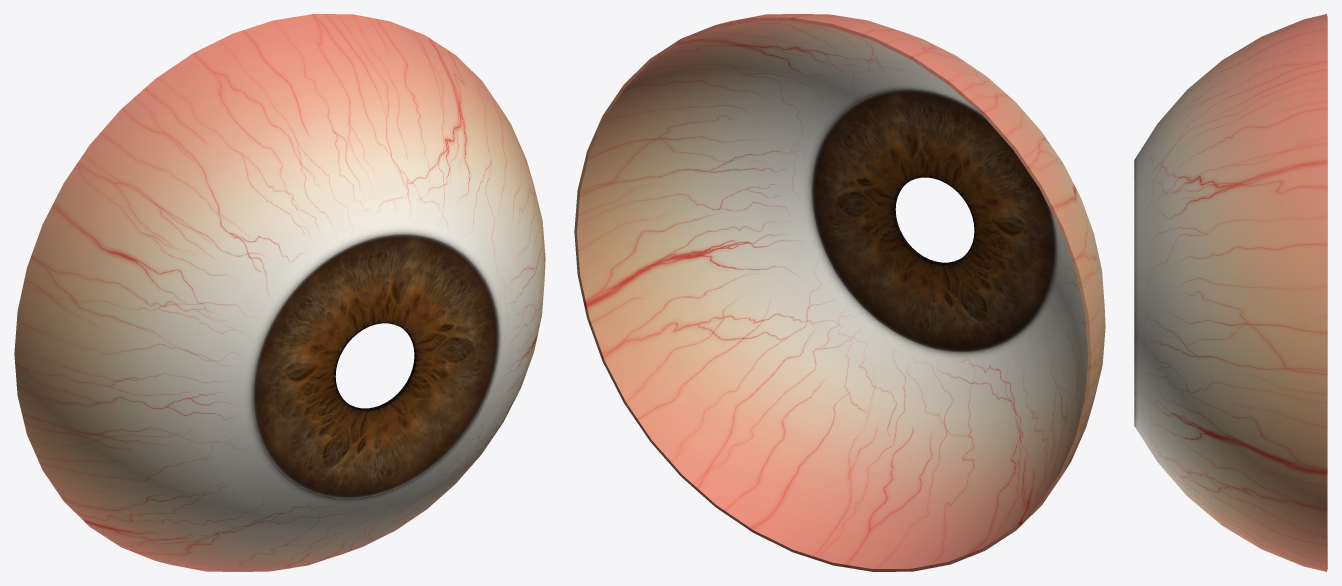
Rendered from eye_03.FBX.
The picture shows the model from 3 angles, left to right: view 1: azimuth 30°, elevation 25°; view 2: azimuth 150°, elevation 25°; view 3: azimuth 270°, elevation 25°; orthographic projection. The views are drawn at different scales.
Visible parts, largest first — view 1: 鞏膜003; view 2: 鞏膜003; view 3: 鞏膜003.
Boxes of the visible parts, left/top/right/bottom form: 鞏膜003: left=14, top=14, right=545, bottom=571; 鞏膜003: left=574, top=14, right=1105, bottom=571; 鞏膜003: left=1134, top=14, right=1327, bottom=571.
Size of the model in its own units: 65 by 65 by 22.51.
